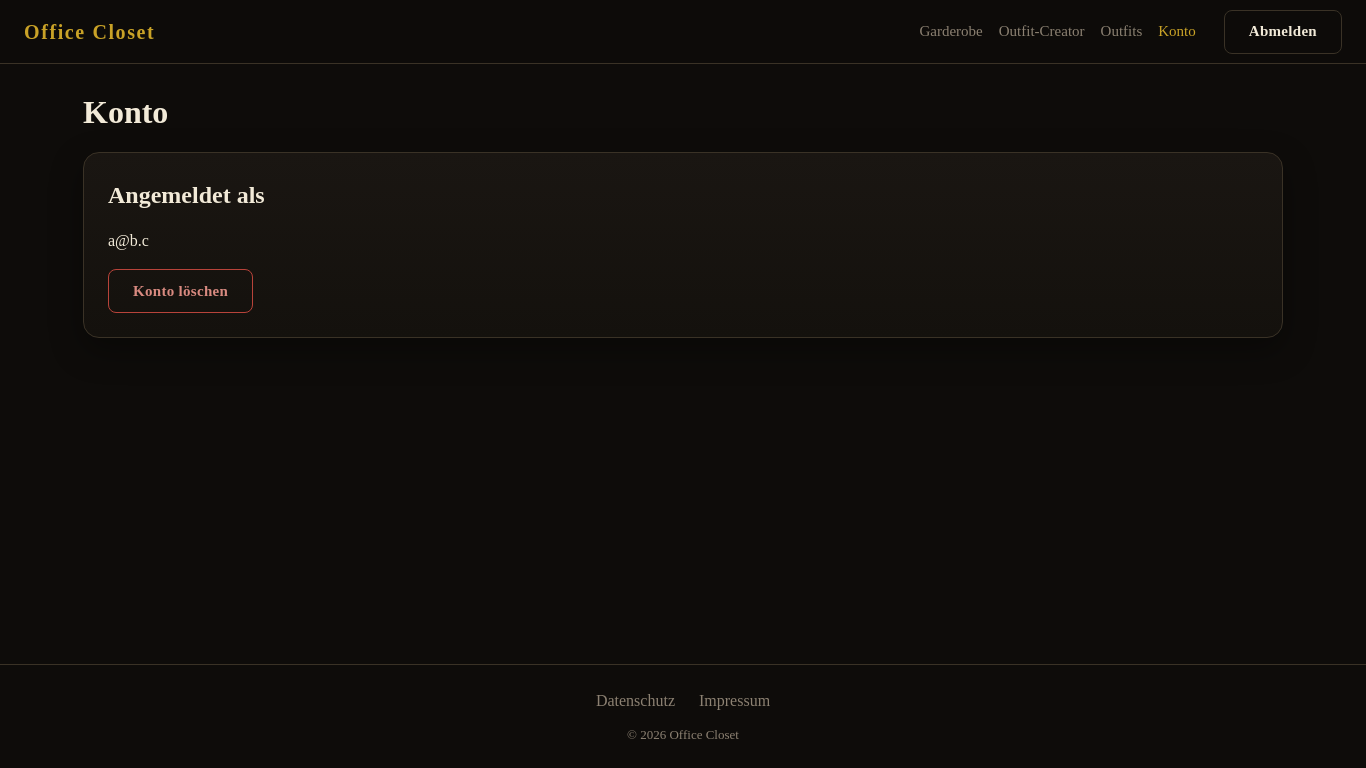
it: Account-Seite › ruft DELETE /api/account auf, meldet ab und leitet zur Startseite
This screenshot has width=1366, height=768.
What coordinates should you click on to do the following:
click the button "Konto löschen"
I would click on:
 (181, 291)
Its box is [108,269,253,313].
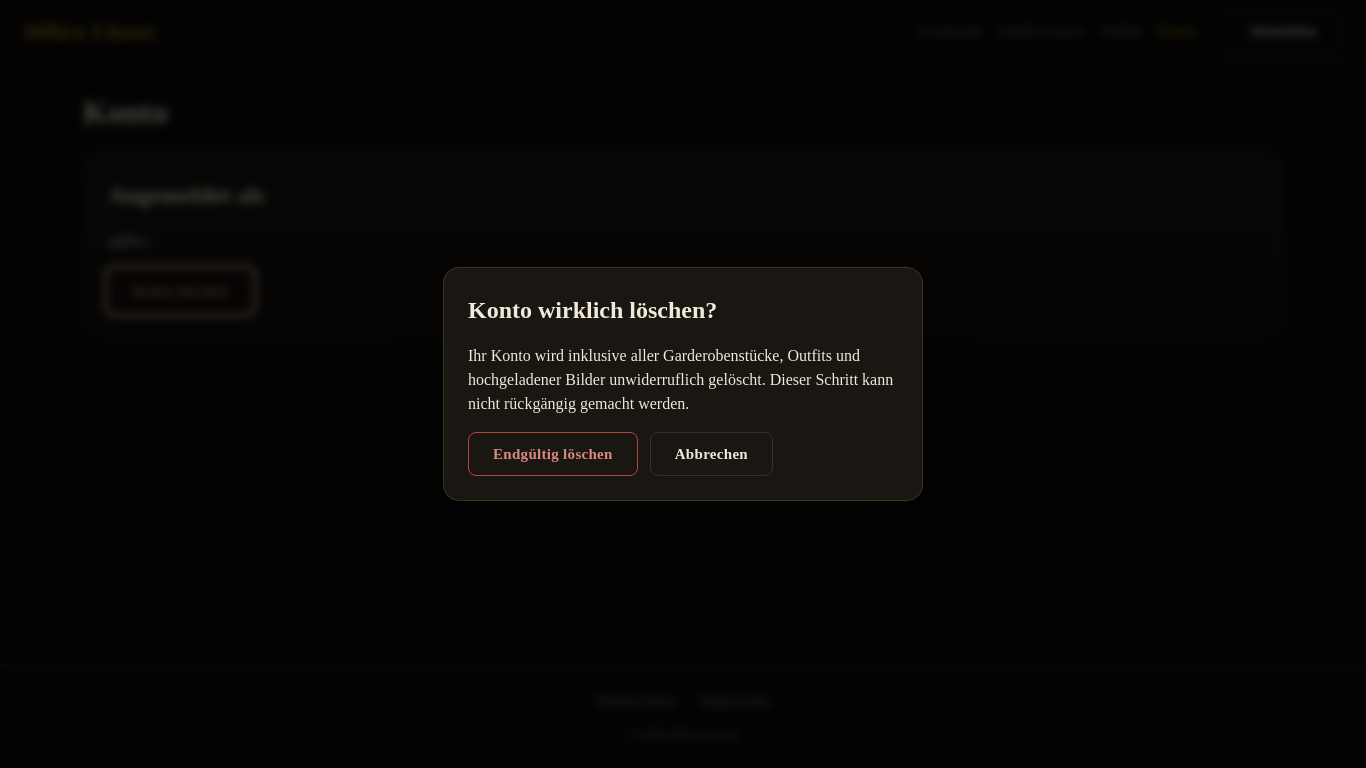
What coordinates should you click on to do the following:
click the button "Endgültig löschen"
I would click on:
 (553, 454)
Its box is [468,432,638,476].
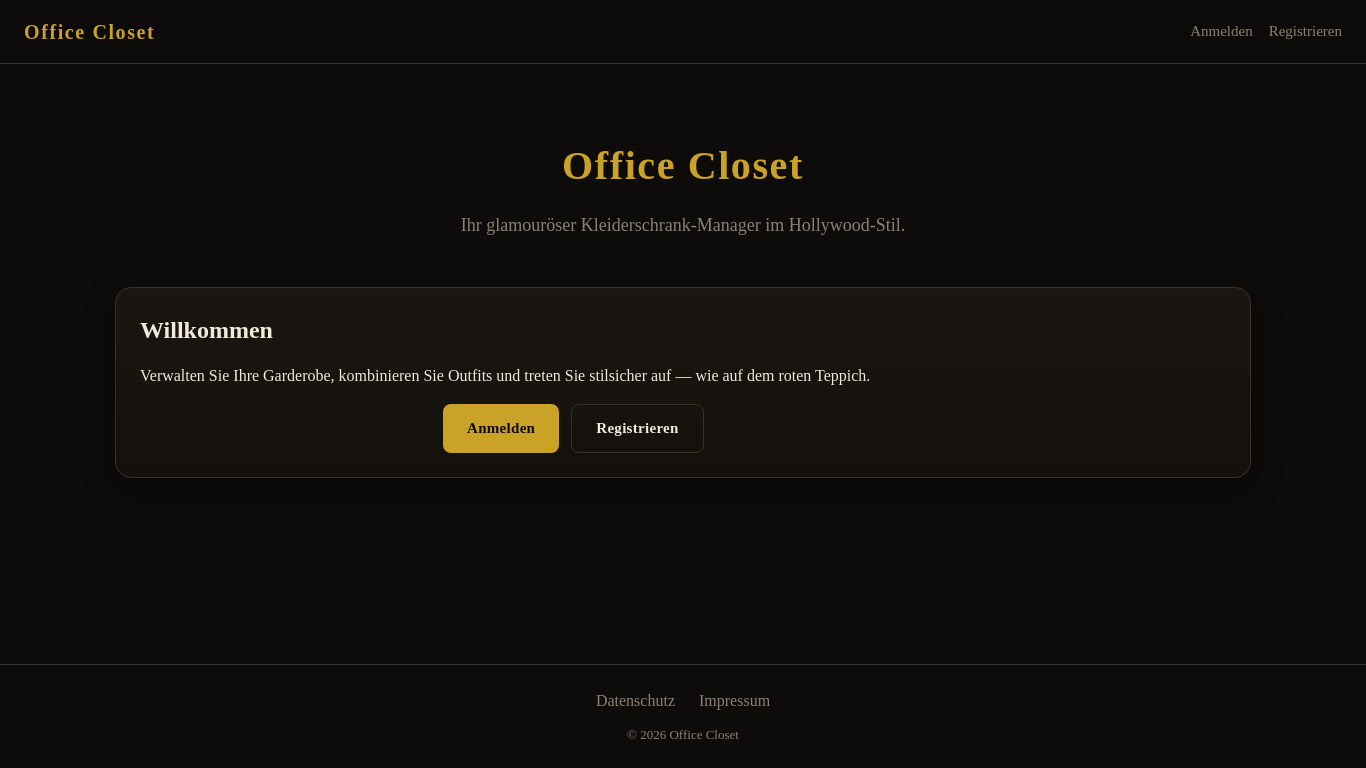
Now the heading "Office Closet" is shown, box [562,143,804,188]
